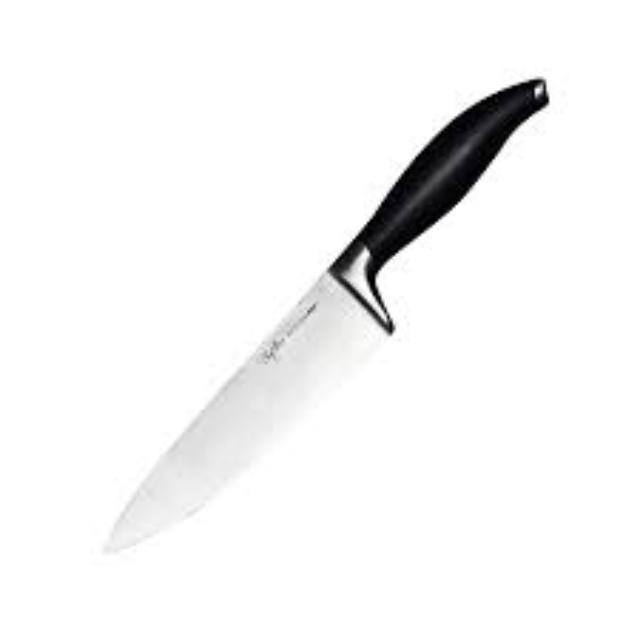knife: (100, 74, 548, 554)
